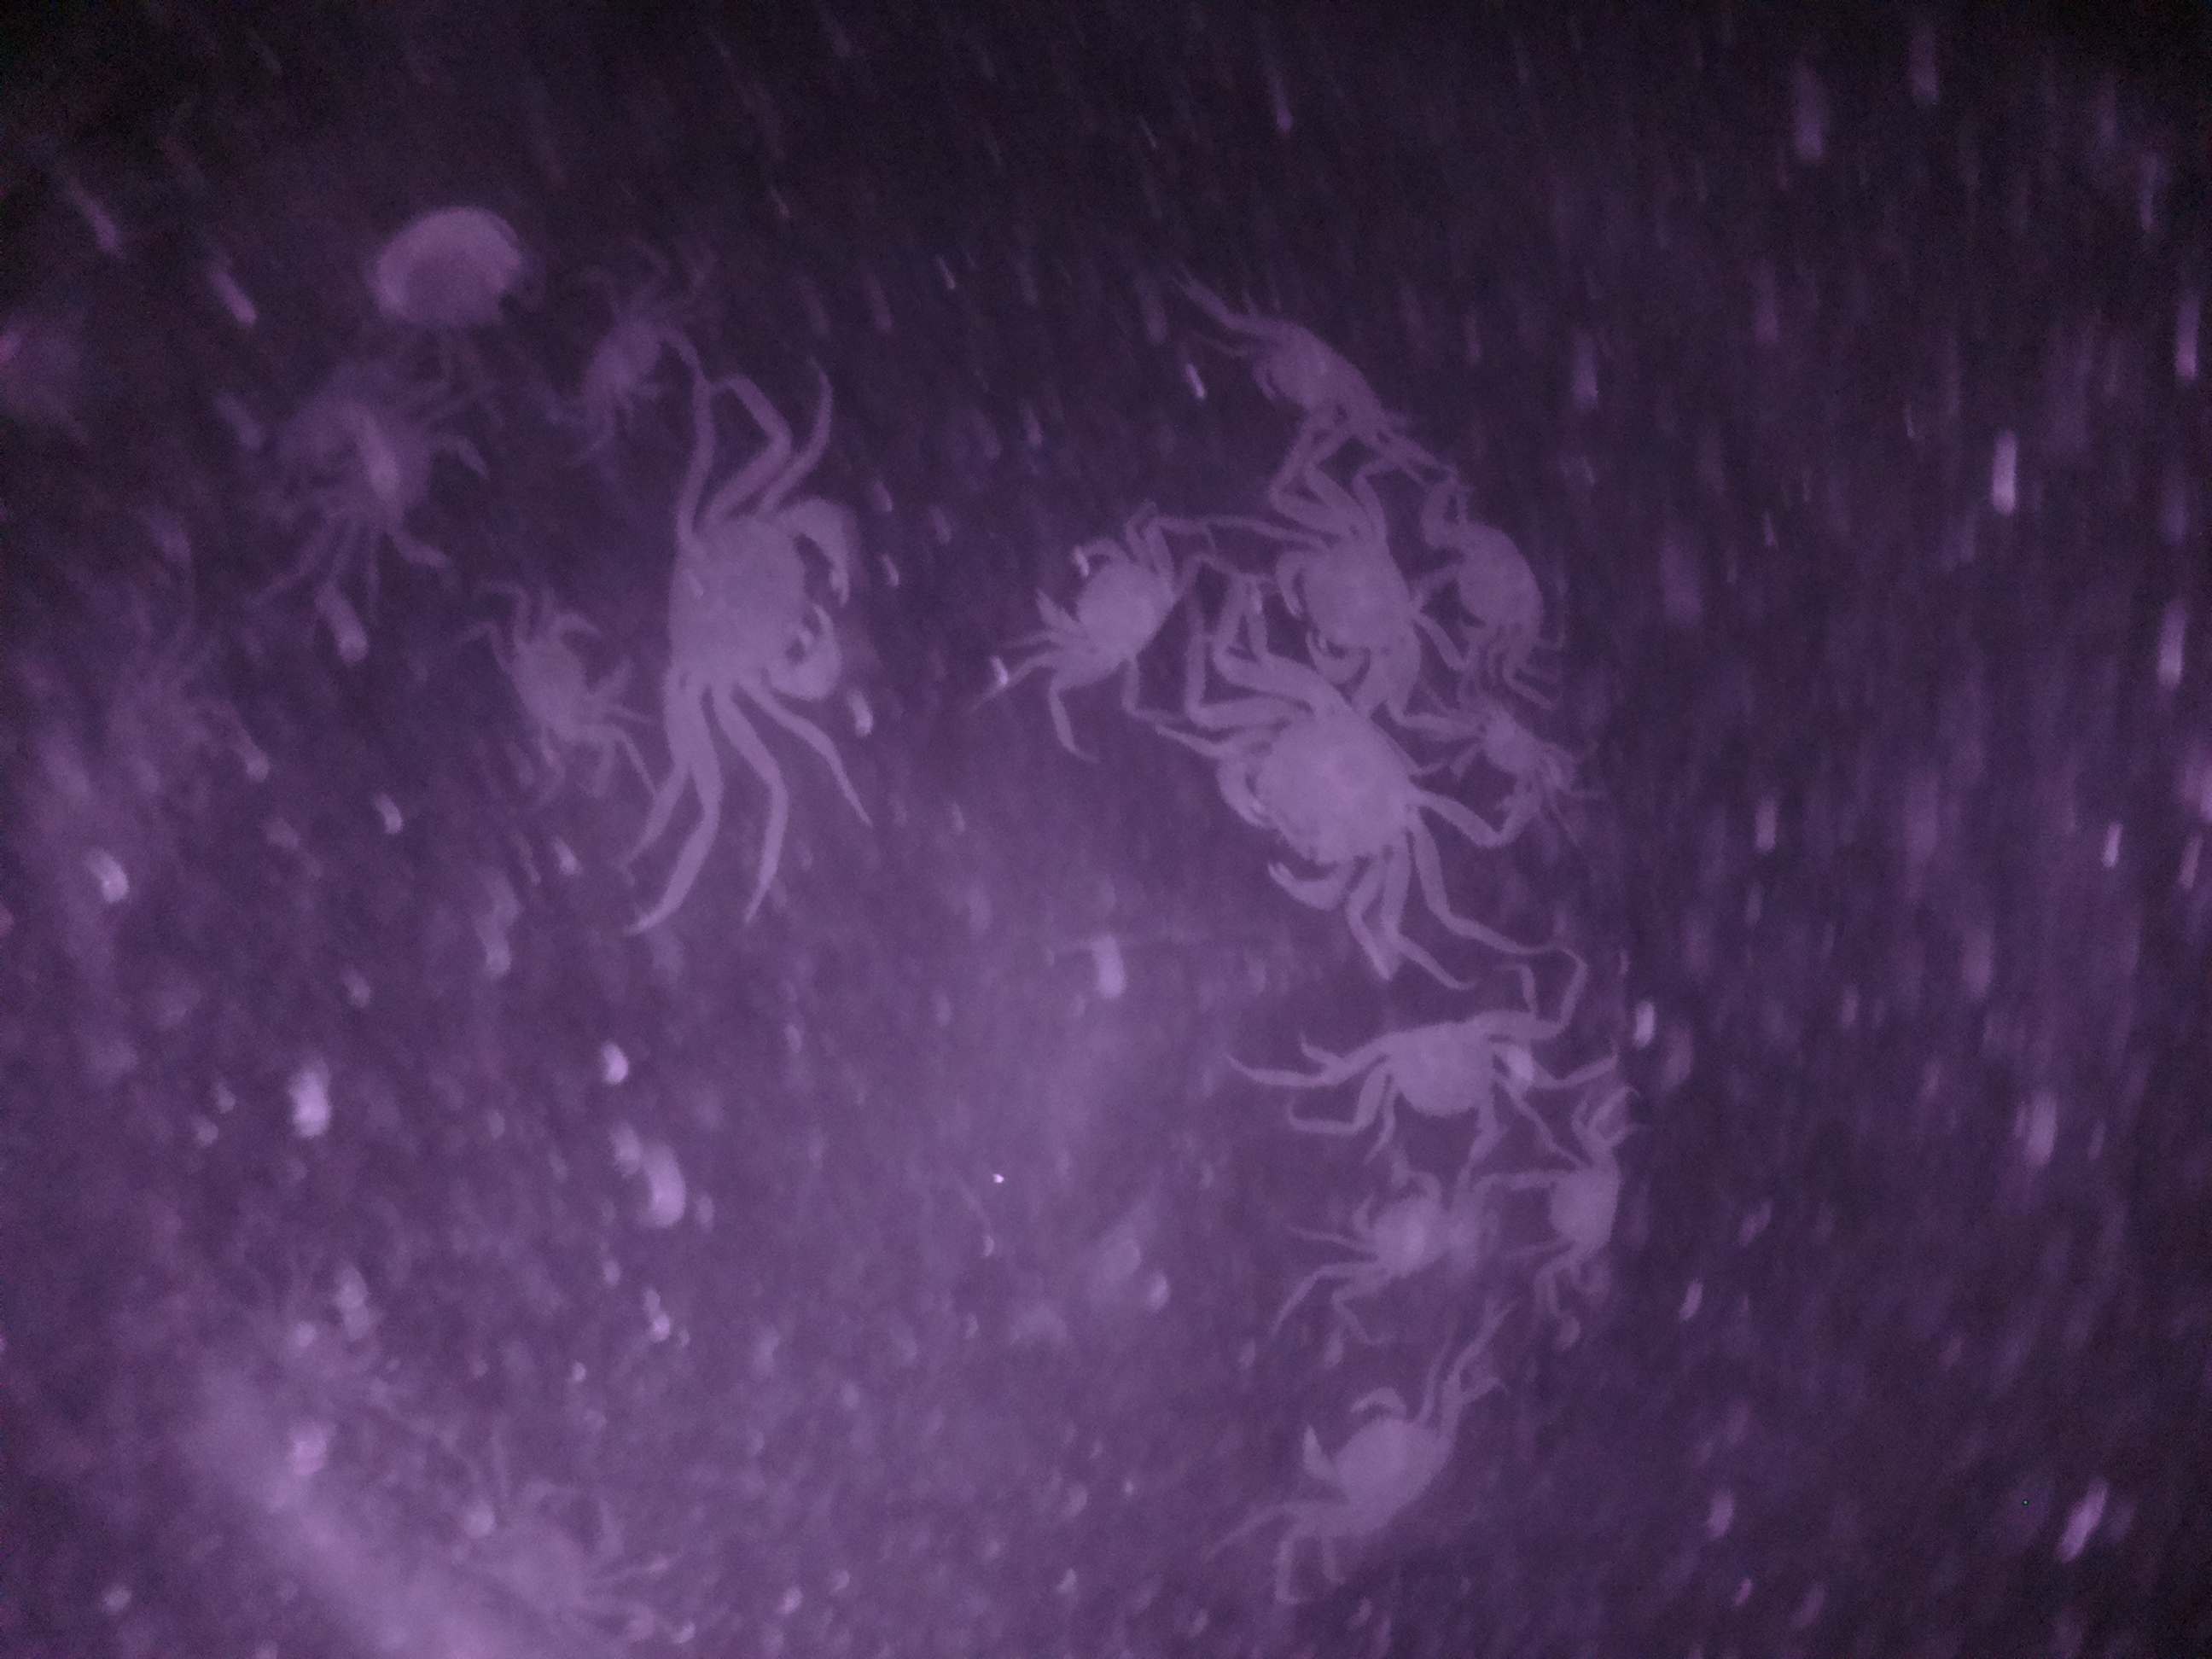Crab: (1172, 685, 1433, 932), (1313, 1016, 1545, 1161), (1261, 507, 1430, 699), (1404, 488, 1587, 655), (1310, 1370, 1449, 1575), (1318, 1166, 1480, 1317), (1047, 505, 1176, 681), (1519, 1129, 1639, 1290)
